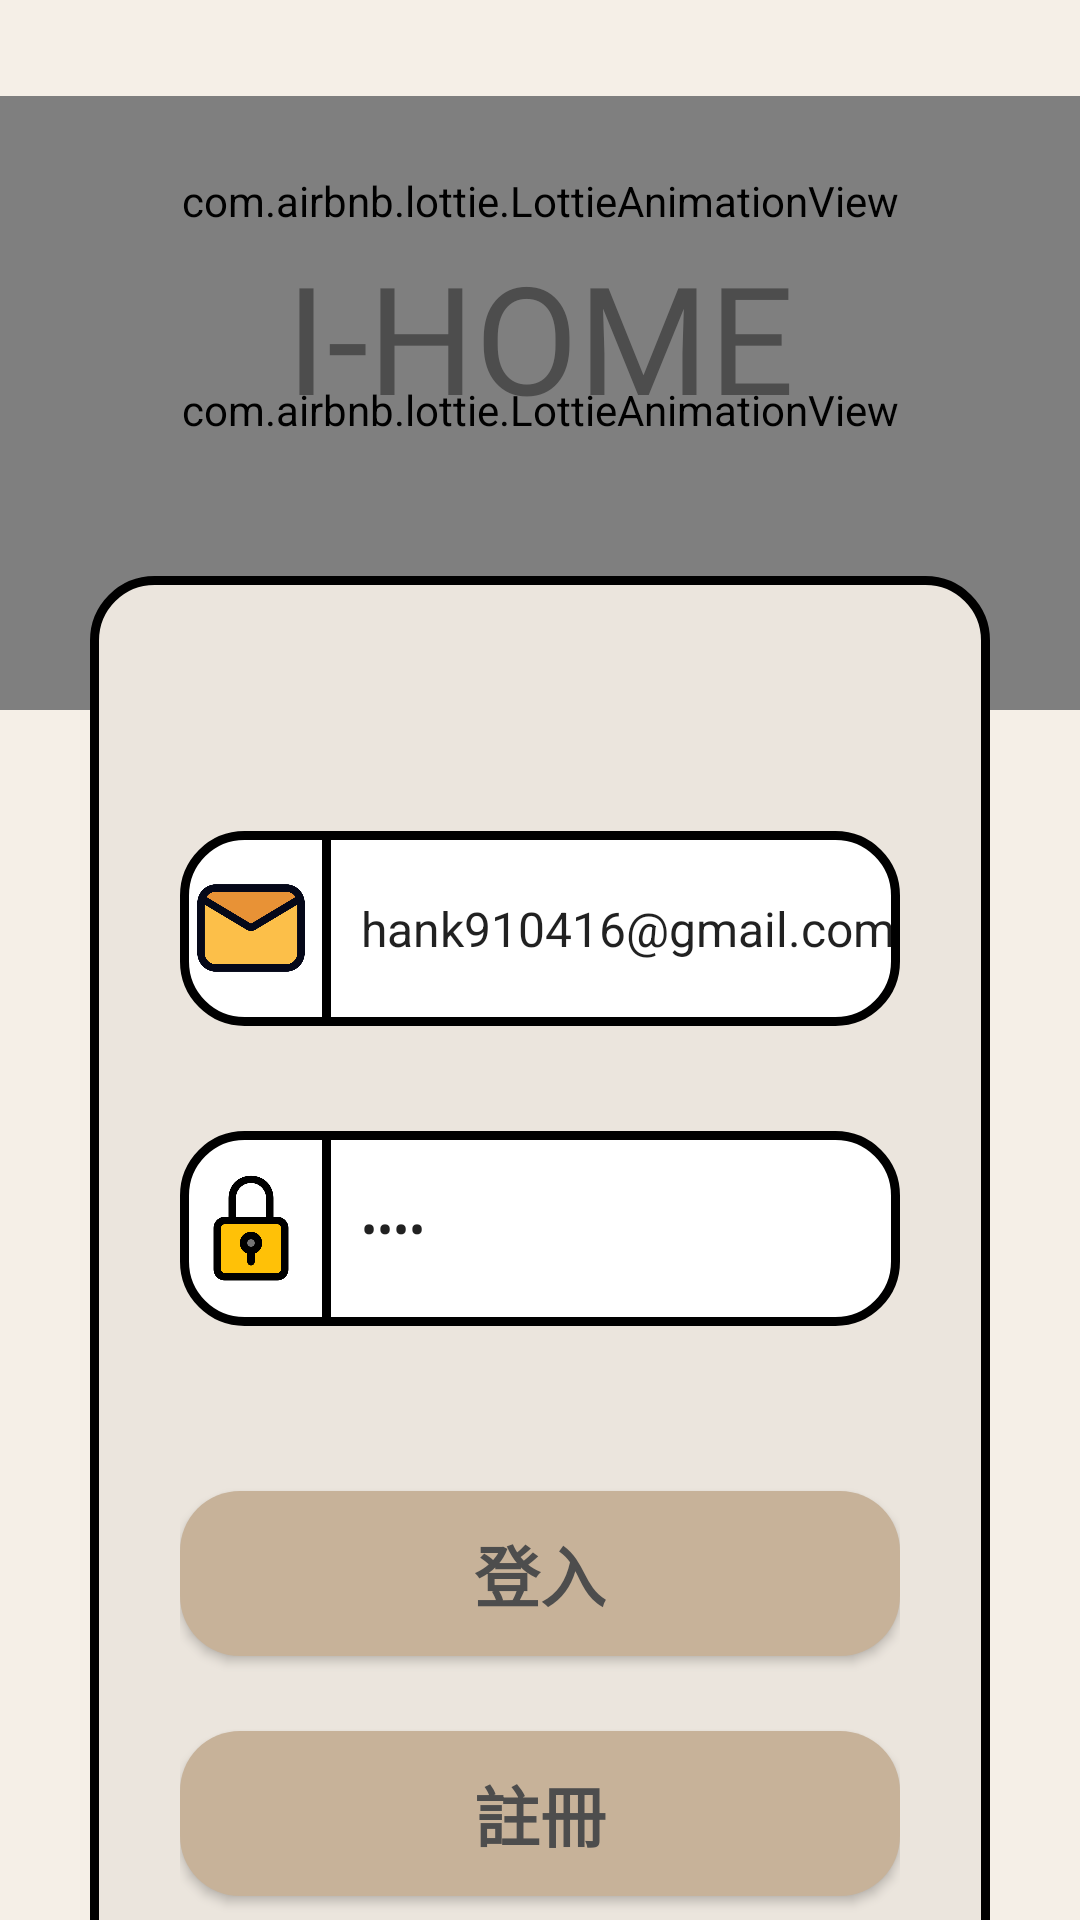

Screen size 1080 × 1920. Icon name, then its center in pixels as point (x, y):
email: point (251, 928)
lock: point (251, 1228)
